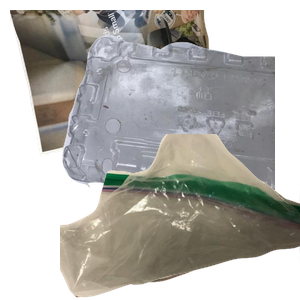glass: (60, 180, 300, 300)
paper: (10, 10, 233, 158)
plastic: (60, 32, 300, 212)
trash: (60, 134, 300, 300)
